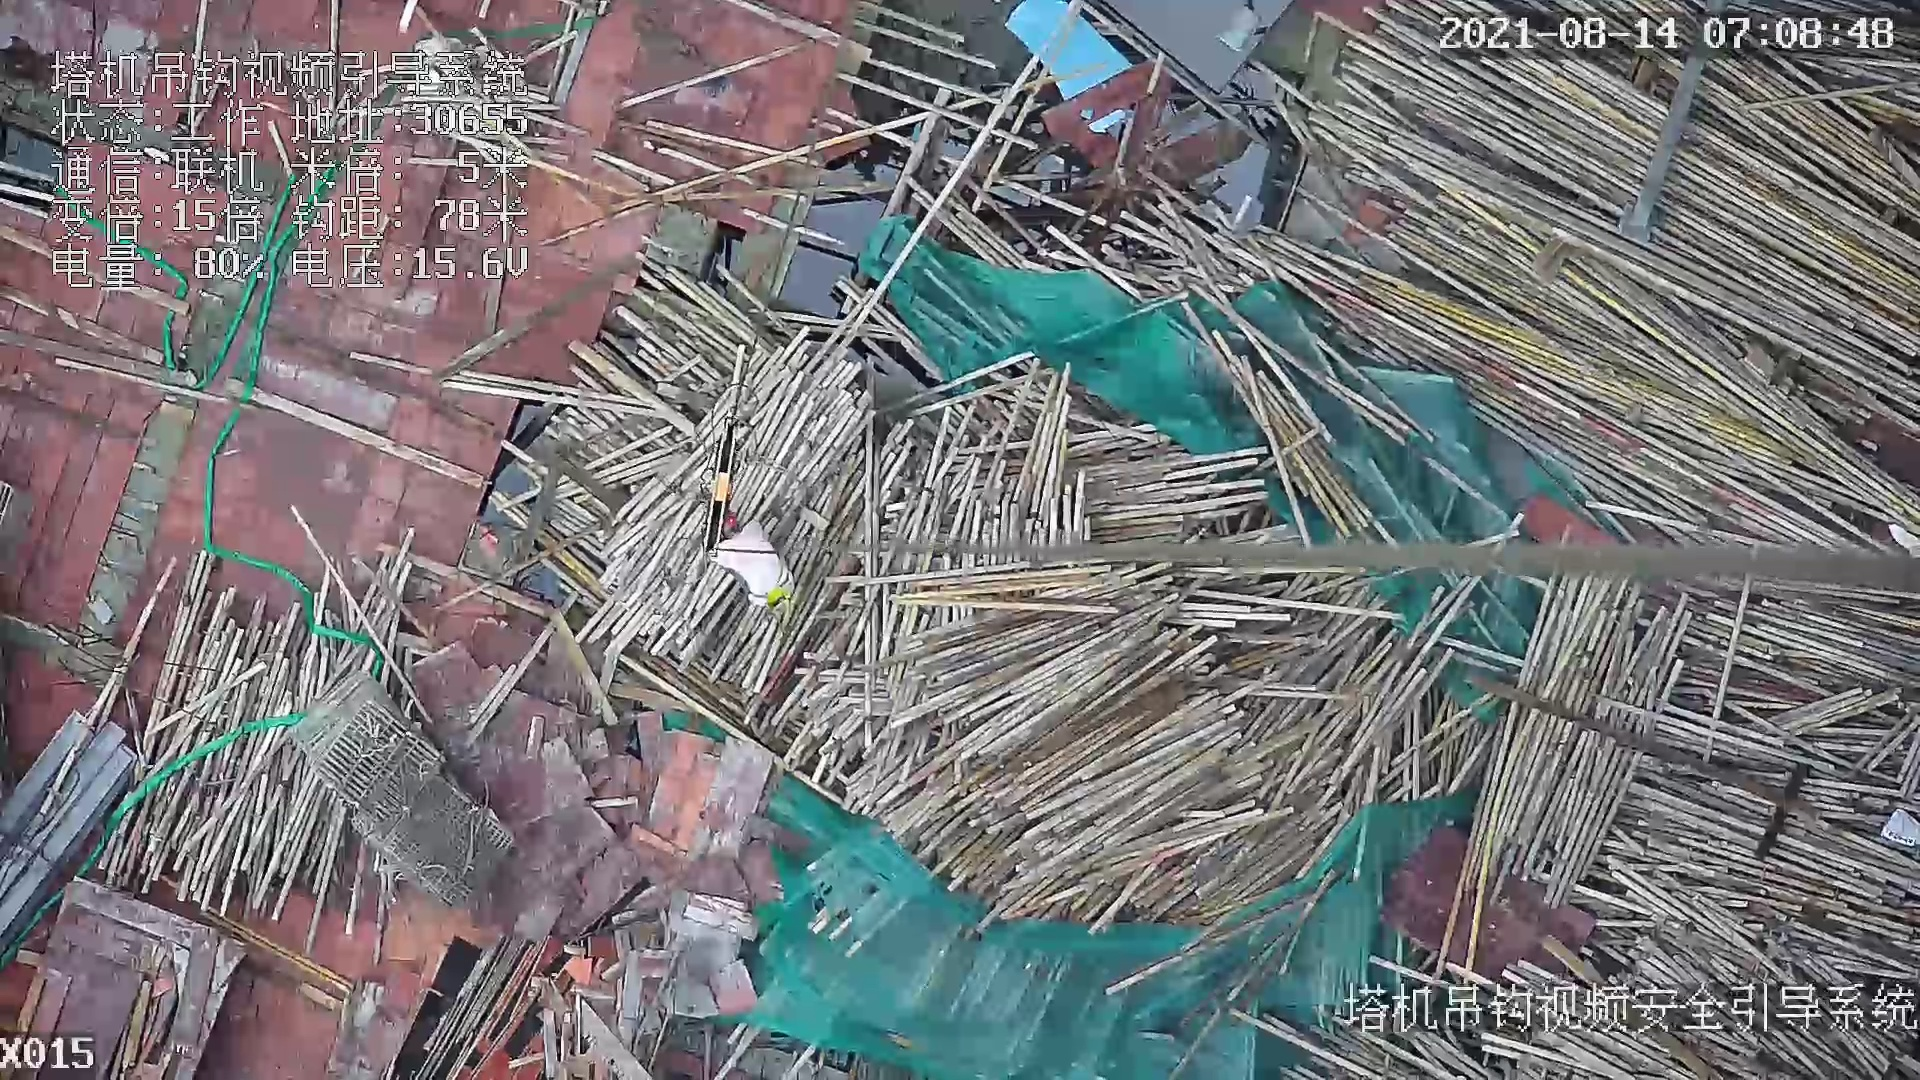hook: (703, 418, 738, 560)
person: (713, 513, 791, 606)
